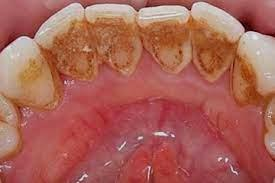Calculus: (86, 6, 151, 81), (0, 41, 68, 112), (192, 2, 245, 88), (36, 8, 103, 76), (138, 2, 200, 74), (229, 31, 275, 105)
